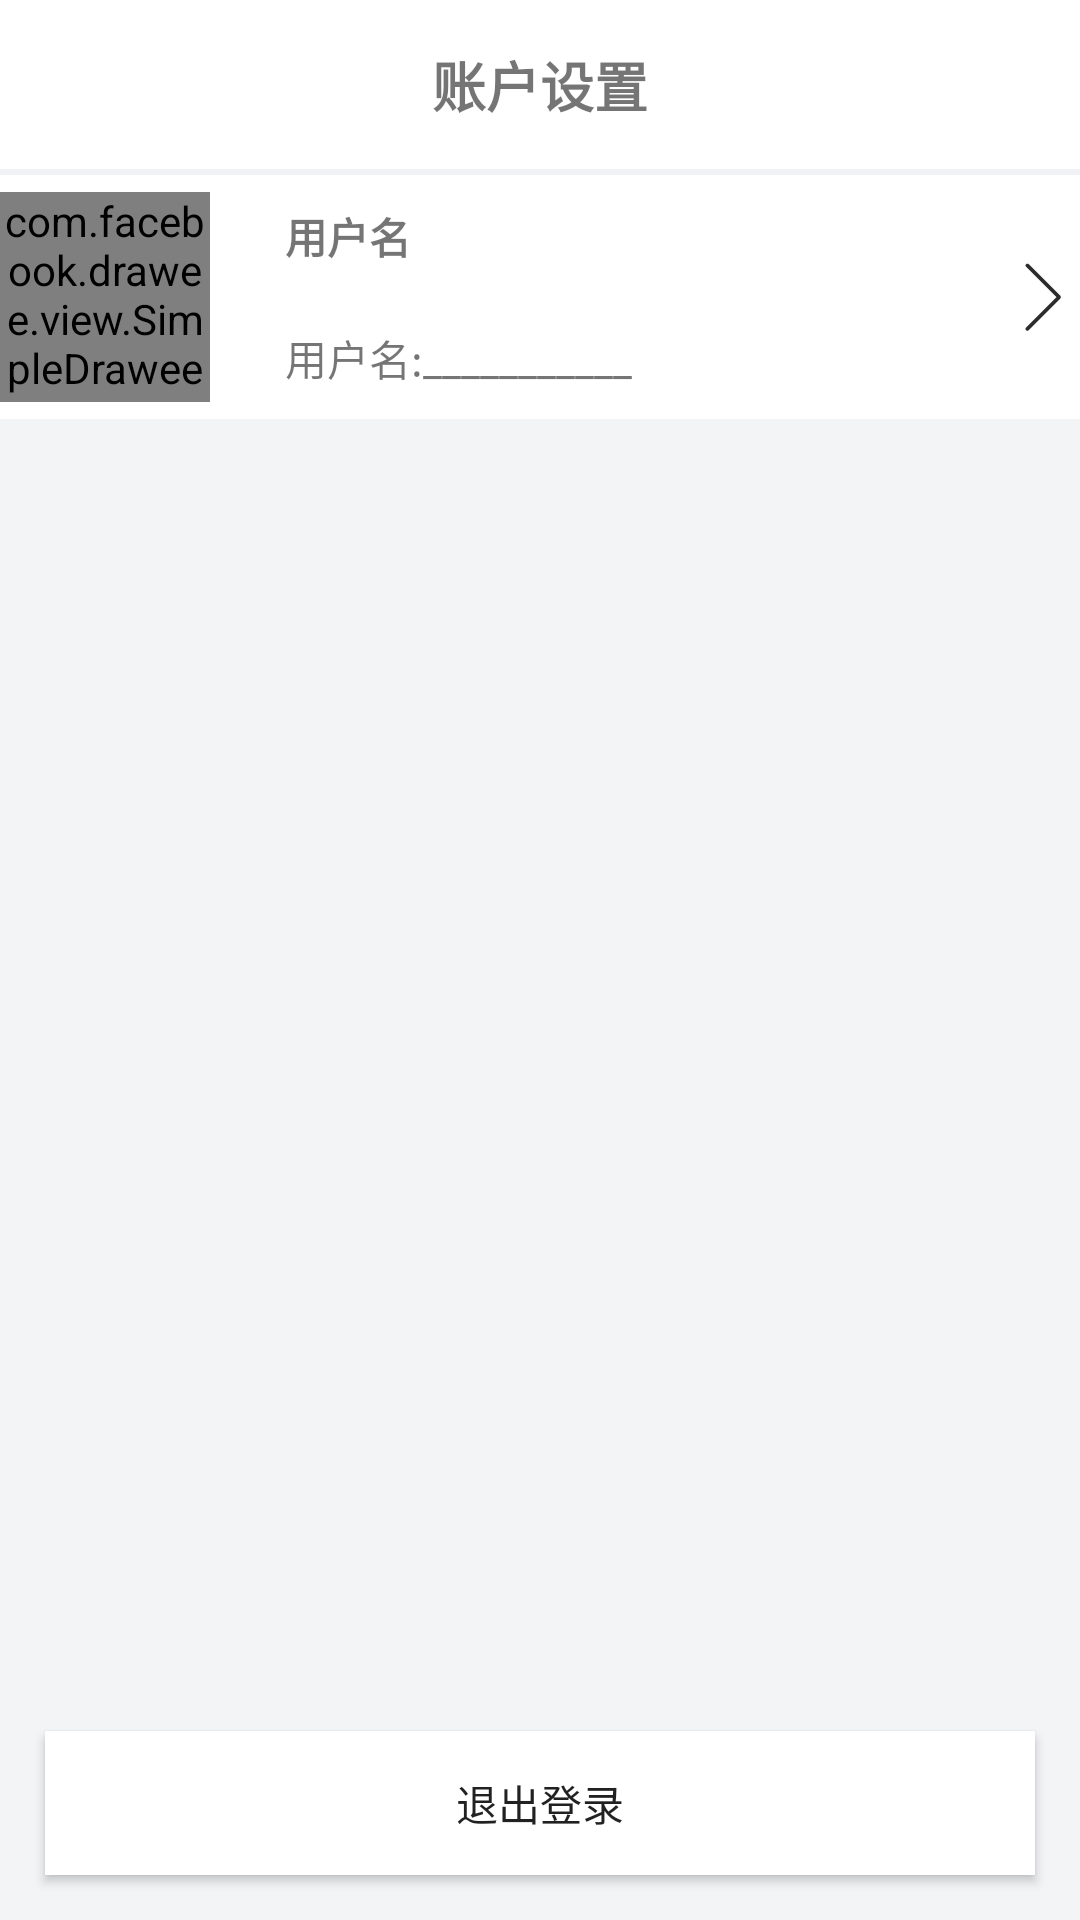

Named icons in this screenshot (1080w x 1920h) and their bounding boxes, (x1, y1, x2, y2):
icmore: (1025, 263, 1061, 331)
